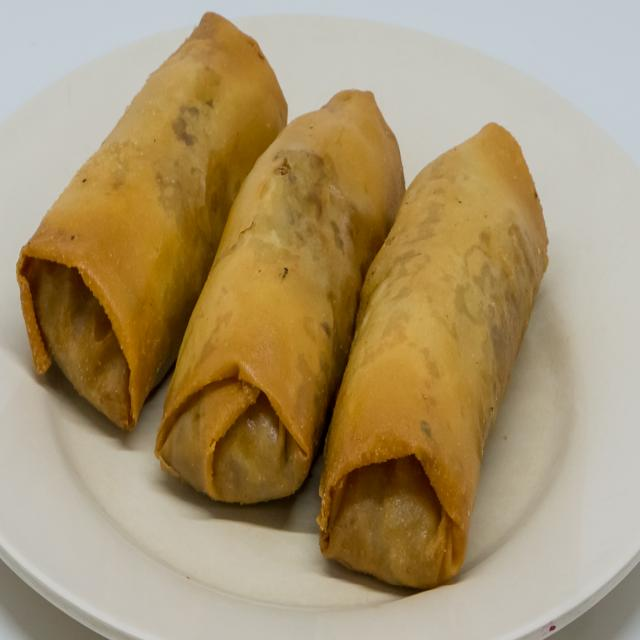Lumpia-Semarang: (10, 4, 558, 599)
